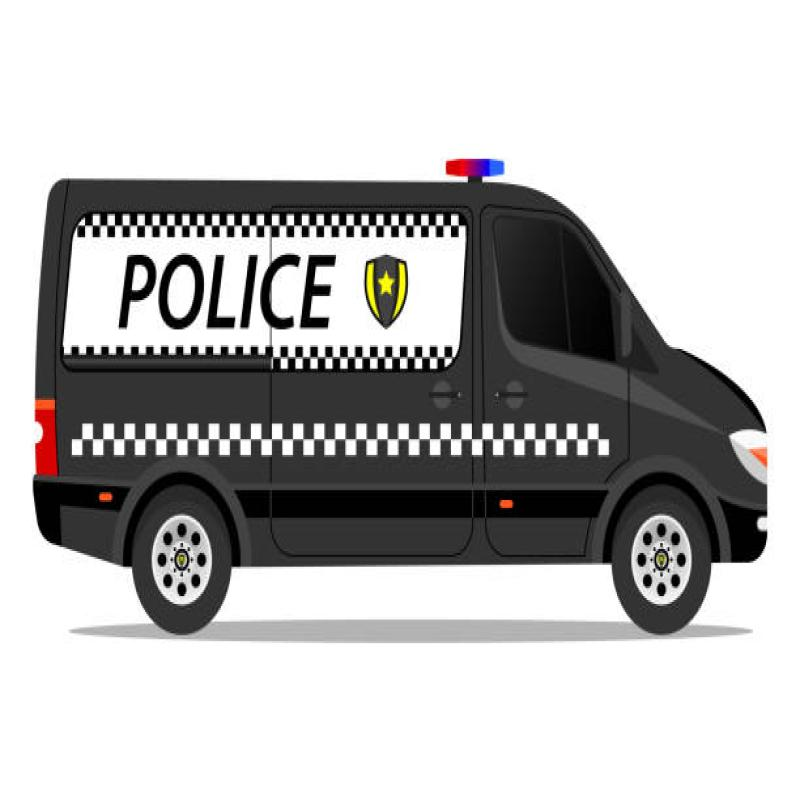AmbulanceSiren: (438, 145, 513, 183)
